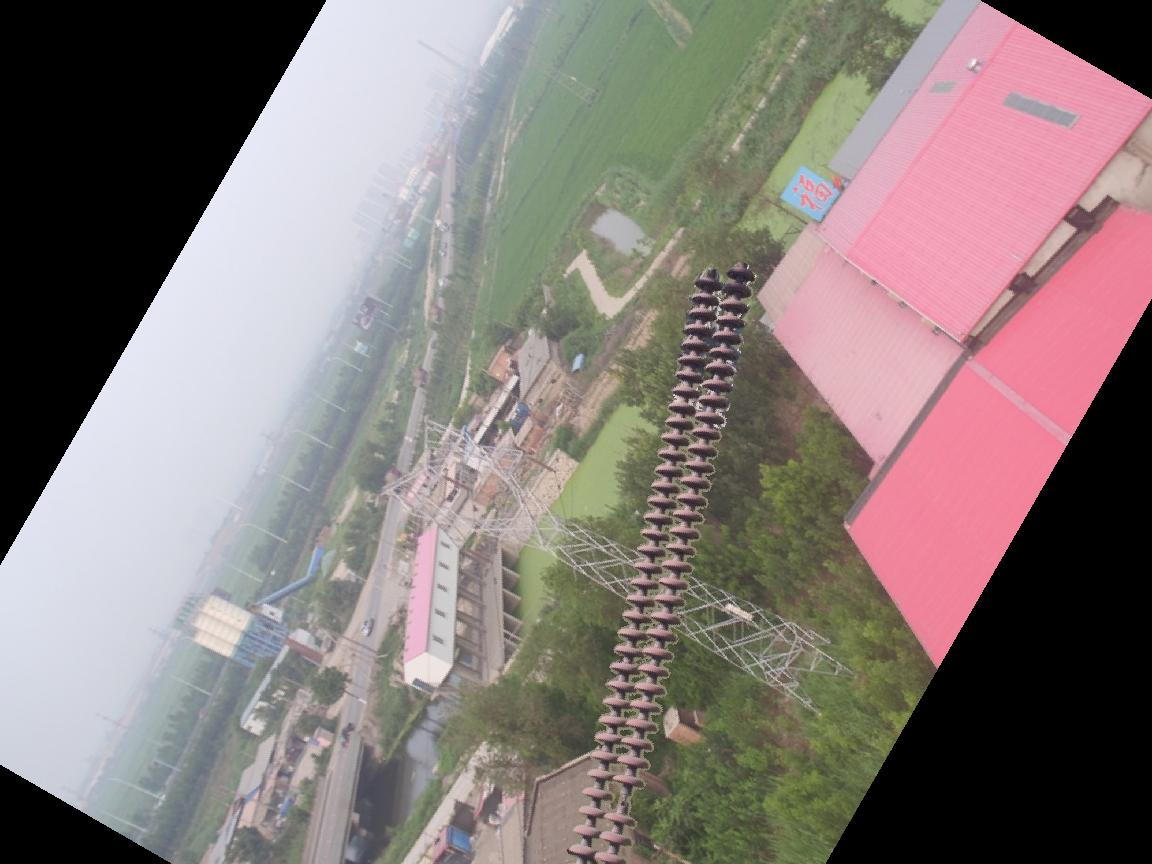insulator: (561, 258, 760, 864)
insulator_stringdrop: (602, 772, 649, 831)
